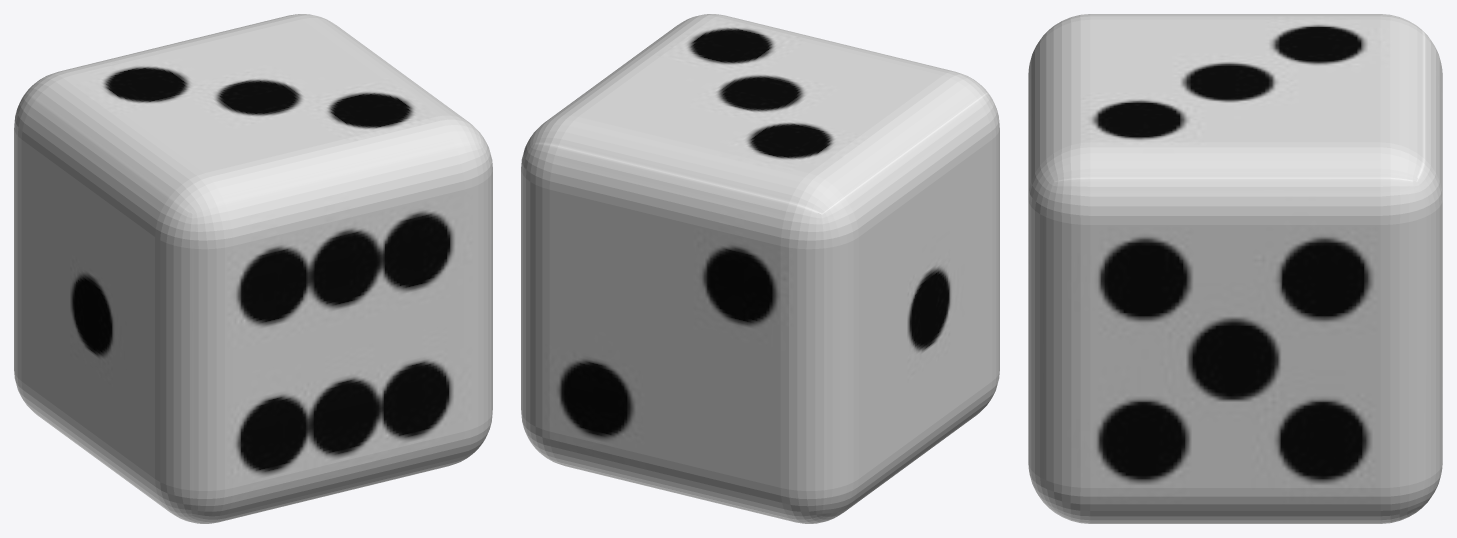
The model's file is DiceCubeModel.fbx.
3 renders of one model, left to right at view 1: azimuth 30°, elevation 25°; view 2: azimuth 150°, elevation 25°; view 3: azimuth 270°, elevation 25°, orthographic. The views are drawn at different scales.
Parts seen in each view (by area): view 1: Cube; view 2: Cube; view 3: Cube.
Part boxes in pixels (left/top/right/bottom): Cube: left=14, top=14, right=492, bottom=523; Cube: left=521, top=14, right=999, bottom=523; Cube: left=1028, top=14, right=1442, bottom=523.
Bounding box in the file's own units: 200 × 200 × 200.
